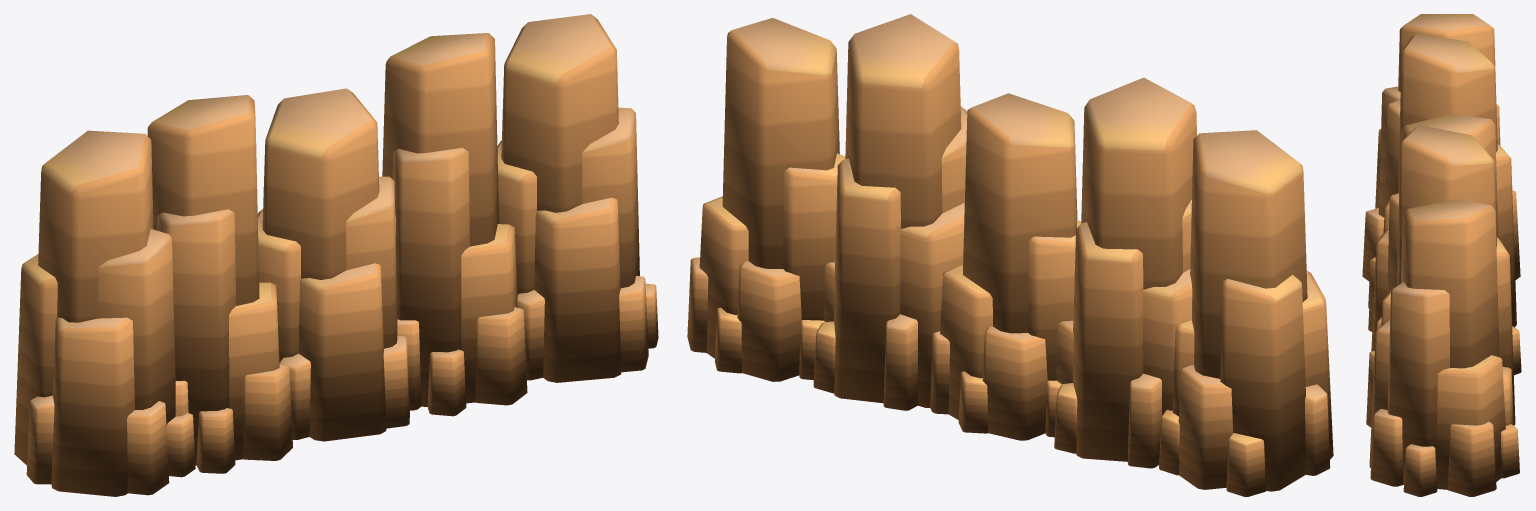
The model's file is cliff.fbx.
3 views of the same model, side by side, from view 1: azimuth 30°, elevation 25°; view 2: azimuth 150°, elevation 25°; view 3: azimuth 270°, elevation 25° (orthographic). The views are drawn at different scales.
Parts seen in each view (by area): view 1: cliff; view 2: cliff; view 3: cliff.
Boxes of the visible parts, bbox=[...] form: cliff: bbox=[14, 14, 658, 496]; cliff: bbox=[687, 14, 1333, 496]; cliff: bbox=[1362, 14, 1521, 496].
Size of the model in its own units: 162 by 84.47 by 43.06.
